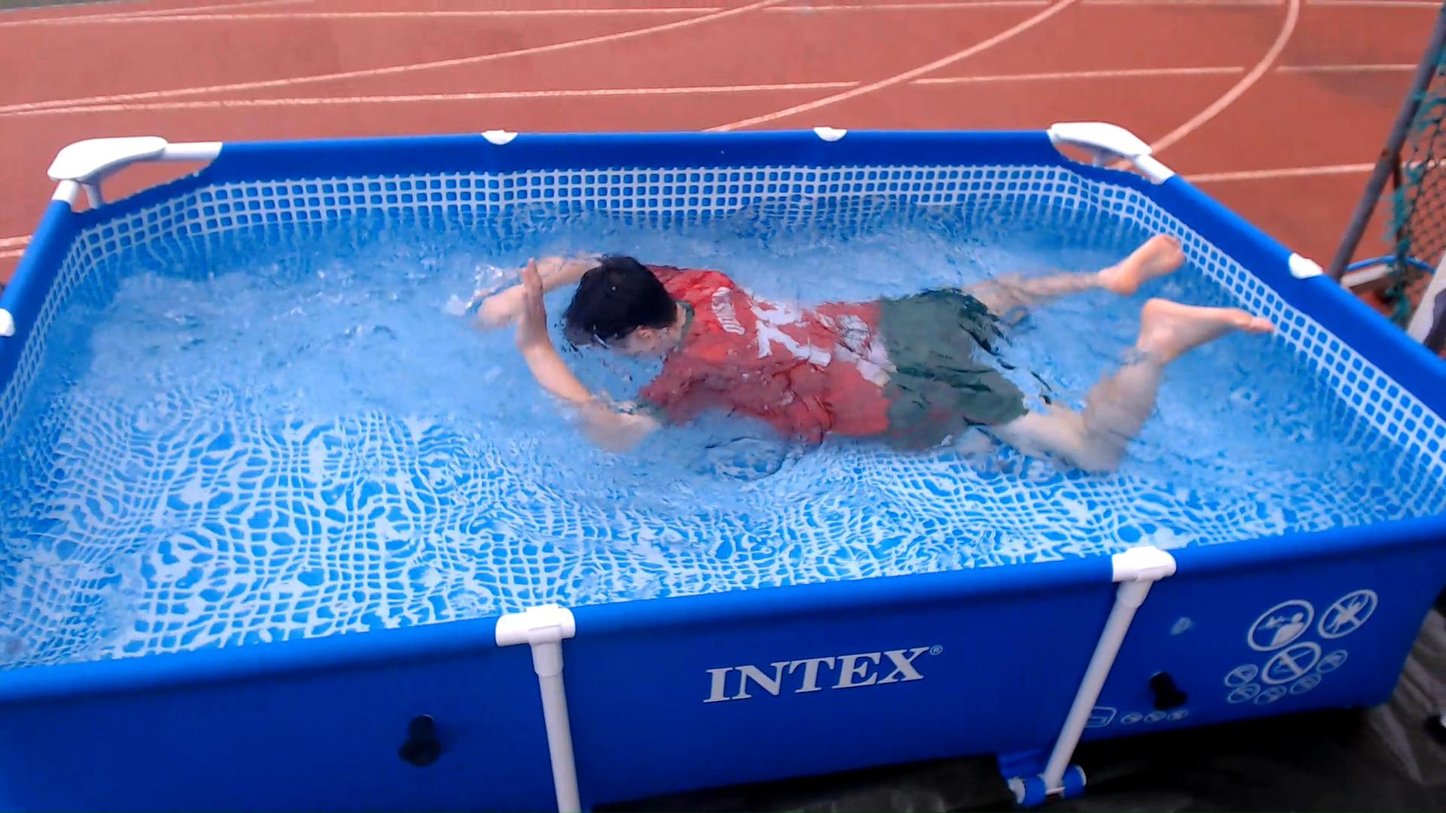Drowning: (402, 196, 1312, 464)
